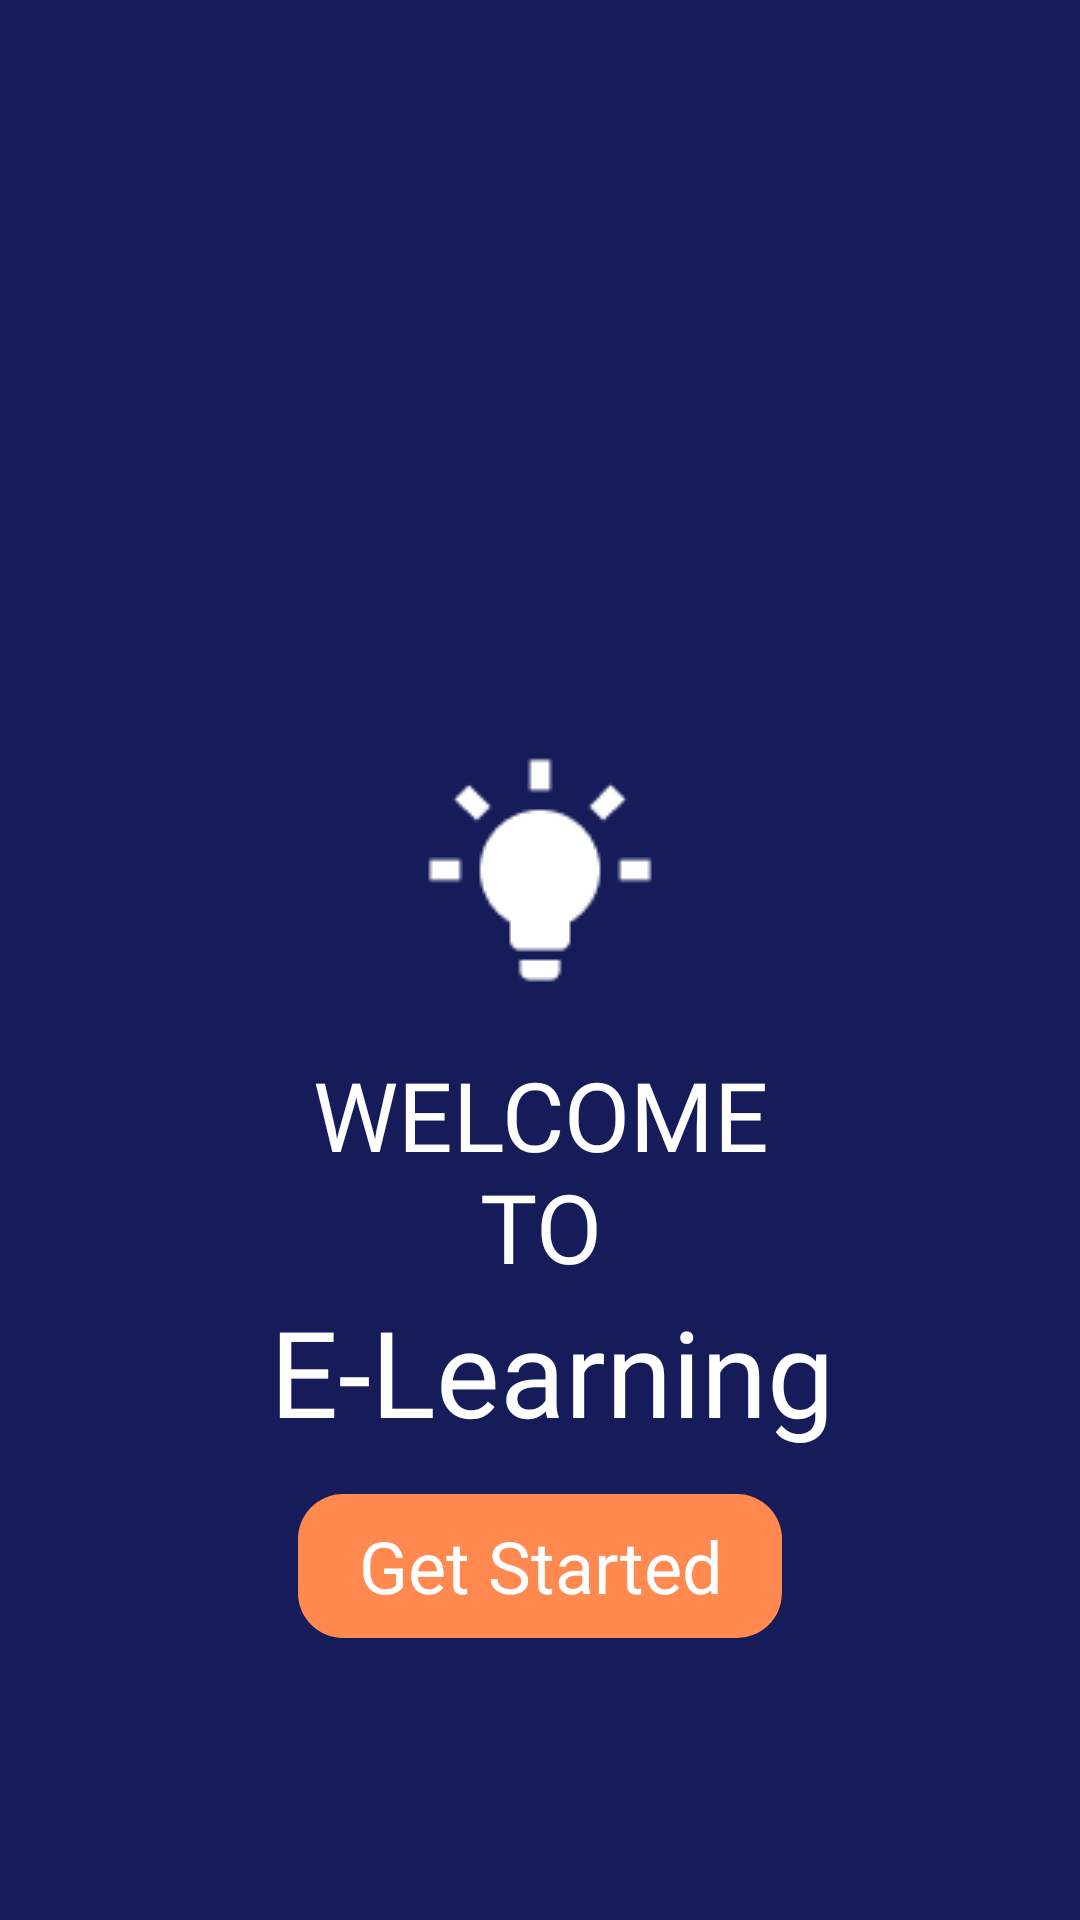

Icons on this 1080×1920 Android screen, each with its box as (x1, y1, x2, y2):
lightbulb: (428, 758, 652, 982)
